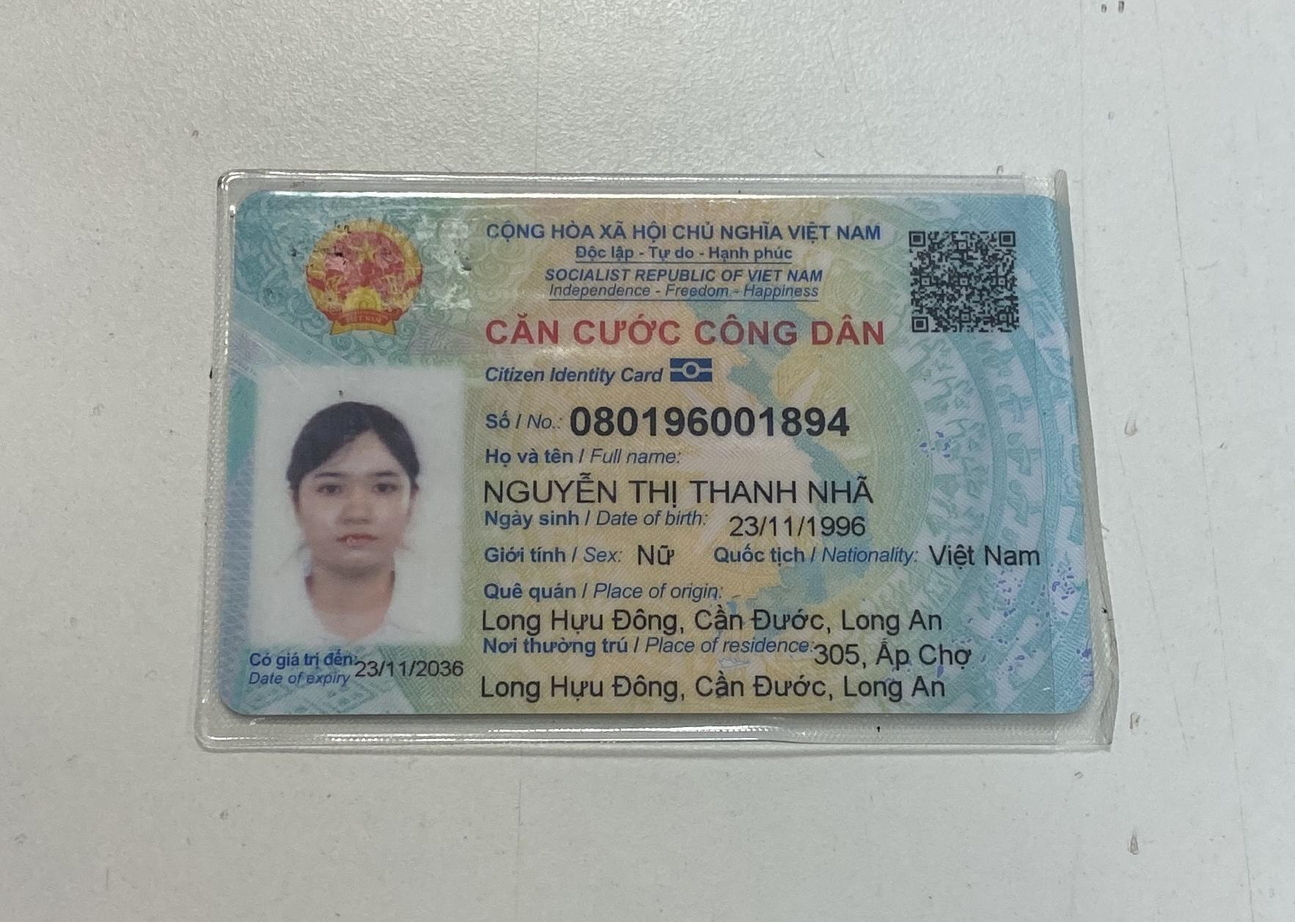ID: (562, 397, 869, 441)
birth: (720, 507, 878, 544)
name: (474, 468, 884, 511)
place: (474, 602, 960, 637)
residence: (469, 667, 958, 704), (808, 637, 985, 676)
